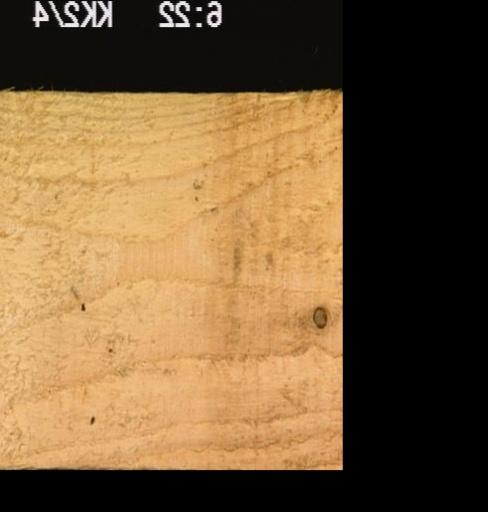dry_knot: (310, 304, 328, 329)
